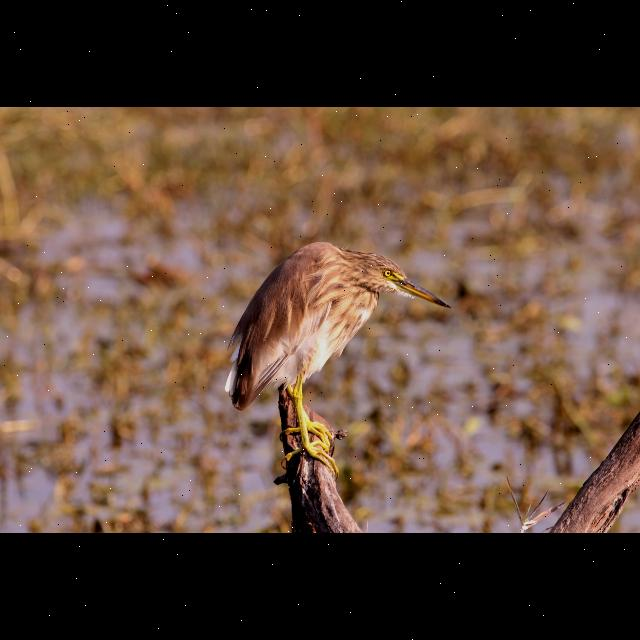heron: (227, 230, 459, 466)
